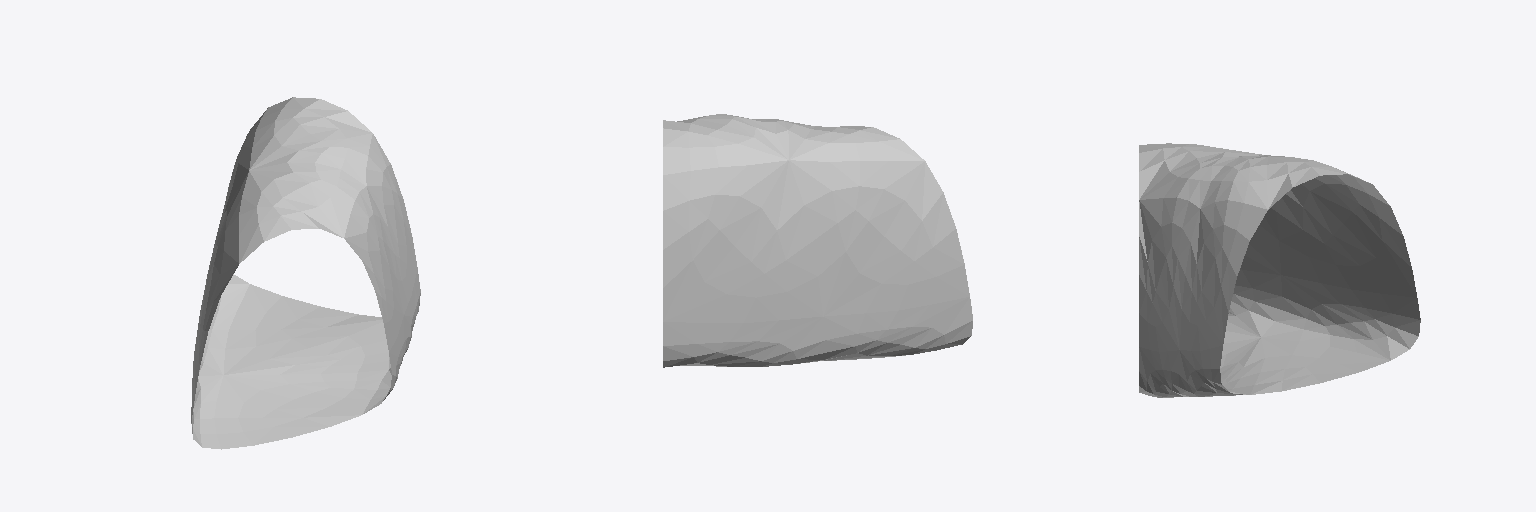
File: cave_601r_1.obj
3 renders of one model, left to right at view 1: azimuth 30°, elevation 25°; view 2: azimuth 150°, elevation 25°; view 3: azimuth 270°, elevation 25°, orthographic.
Parts seen in each view (by area): view 1: cave_601r_1_Cube.039; view 2: cave_601r_1_Cube.039; view 3: cave_601r_1_Cube.039.
Part boxes in pixels (bbox=[...]): cave_601r_1_Cube.039: bbox=[191, 97, 420, 449]; cave_601r_1_Cube.039: bbox=[663, 114, 972, 367]; cave_601r_1_Cube.039: bbox=[1139, 143, 1420, 397].
Bounding box in the file's own units: 7.9 × 6.81 × 7.14.